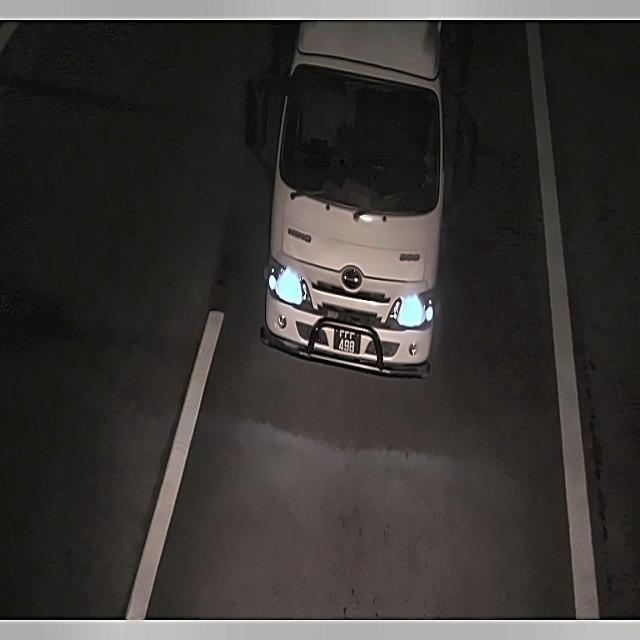car: (330, 322, 363, 363)
